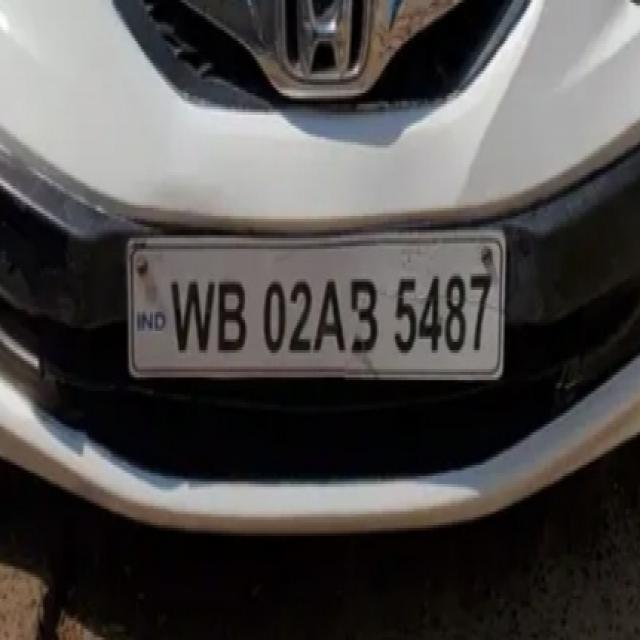0: (262, 267, 290, 363)
4: (418, 249, 444, 366)
5: (390, 250, 420, 370)
7: (465, 254, 498, 364)
8: (443, 255, 468, 368)
A: (314, 268, 348, 368)
B: (344, 256, 384, 360), (216, 256, 248, 365)
W: (168, 259, 216, 363)
